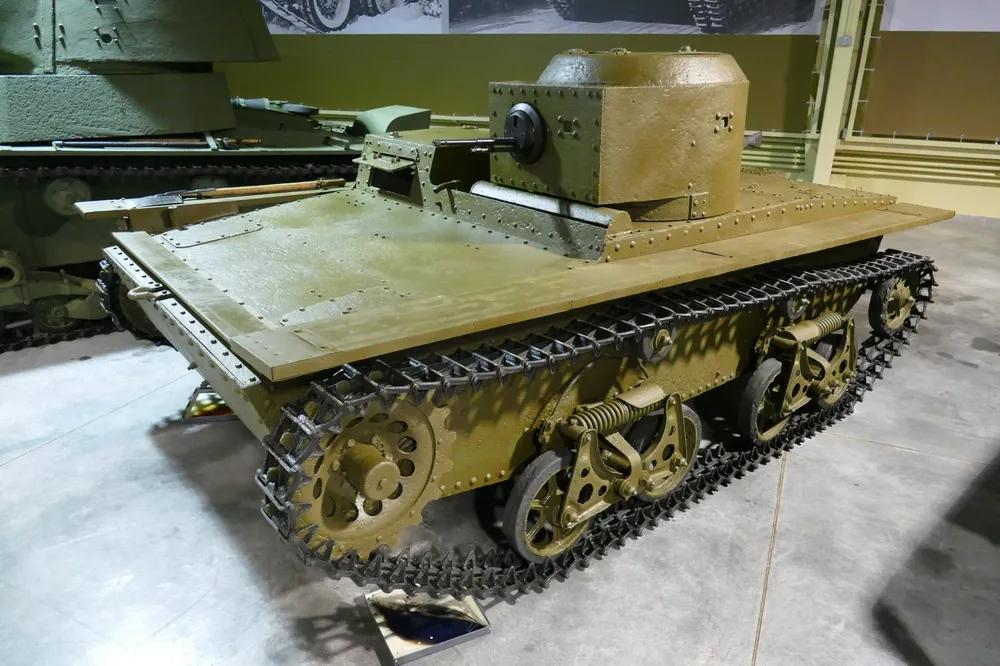MIL_IFV: (92, 48, 960, 607)
